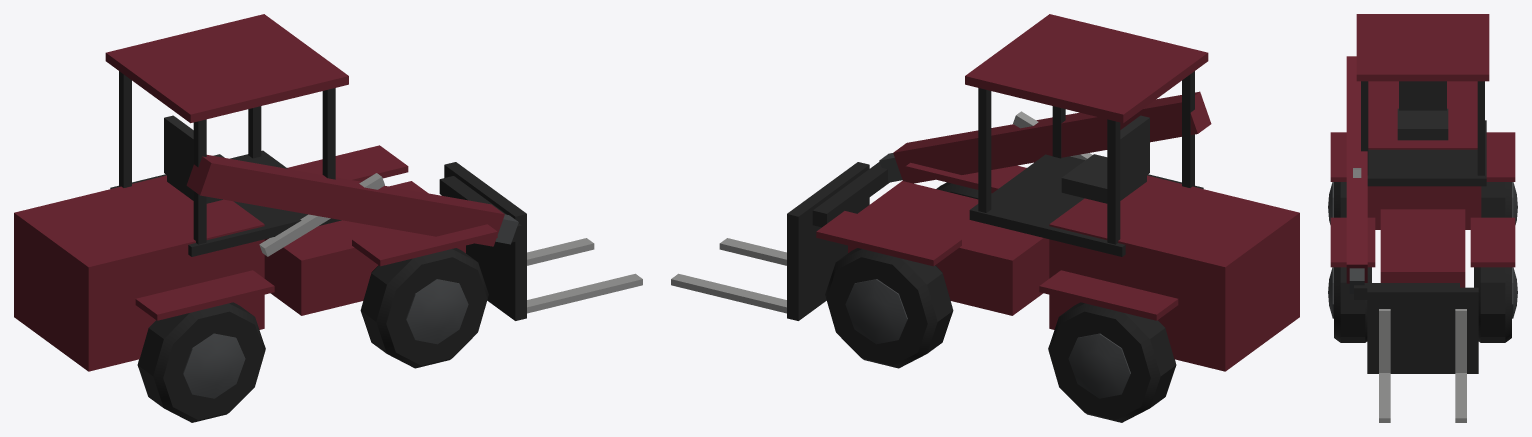
Rendered from SM_Prop_farm_loader_1_LOD1.glb.
The picture shows the model from 3 angles, left to right: view 1: azimuth 30°, elevation 25°; view 2: azimuth 150°, elevation 25°; view 3: azimuth 270°, elevation 25°; orthographic projection. The views are drawn at different scales.
Parts seen in each view (by area): view 1: SM_Prop_farm_loader_1_LOD1; view 2: SM_Prop_farm_loader_1_LOD1; view 3: SM_Prop_farm_loader_1_LOD1.
Part boxes in pixels (left/top/right/bottom): SM_Prop_farm_loader_1_LOD1: left=14, top=14, right=642, bottom=422; SM_Prop_farm_loader_1_LOD1: left=671, top=14, right=1299, bottom=422; SM_Prop_farm_loader_1_LOD1: left=1328, top=14, right=1517, bottom=422.
Size of the model in its own units: 4.8 by 2.43 by 1.79.
